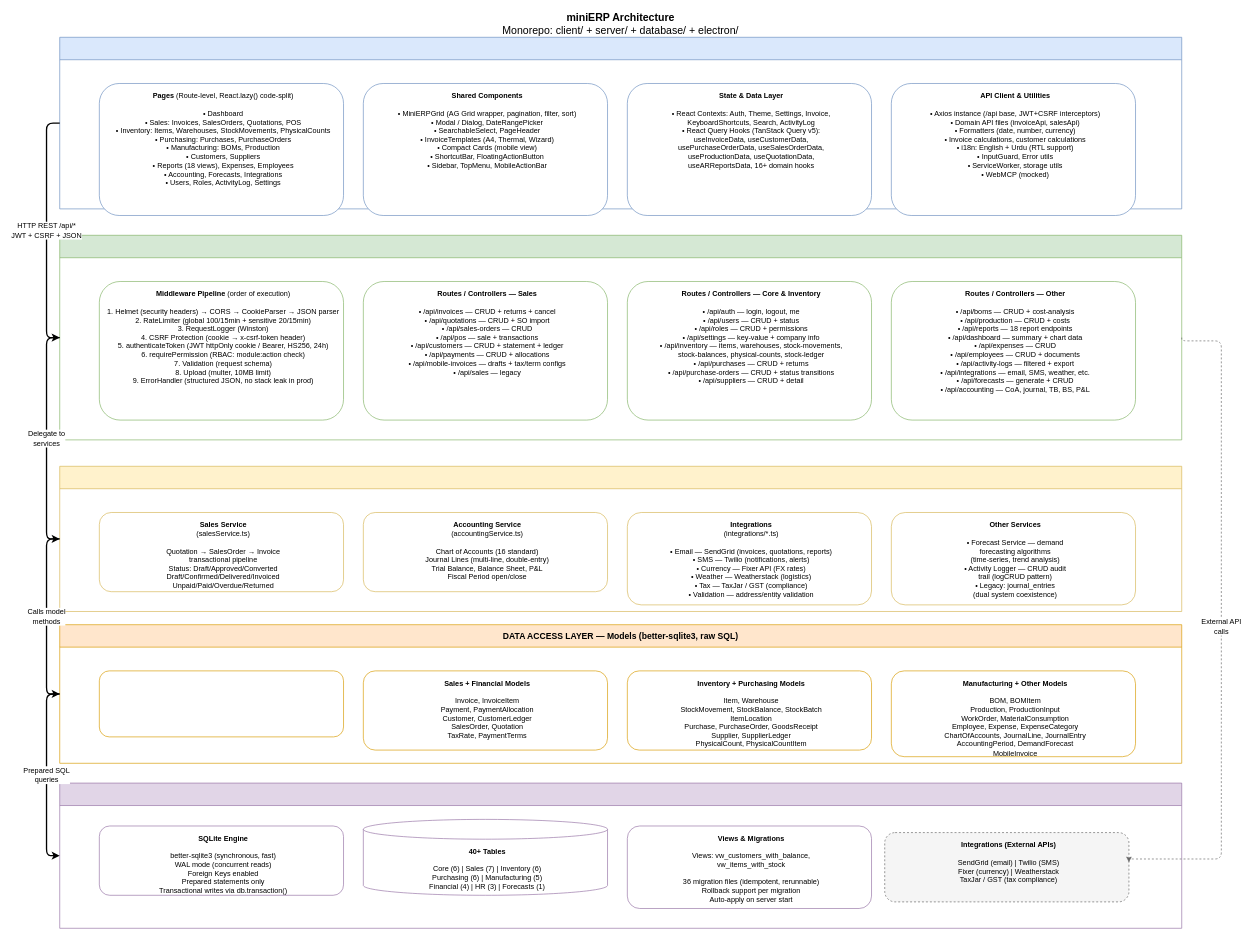
This 1253x940 diagram has some shape labels left out. The shapes that lost their labels are listed below. From the top down, each one's box as (x1, y1, x2, y2) in pixels, then its label:
(59, 37, 1182, 209): PRESENTATION LAYER — React 19 + TypeScript + Vite
(59, 235, 1182, 440): API LAYER — Express 5 + TypeScript (port 3011)
(59, 466, 1182, 611): SERVICE LAYER — Business Logic
(99, 670, 344, 737): Core Models User, Role, Permission Settings (key-value) ActivityLog
(59, 782, 1182, 928): DATABASE — SQLite (better-sqlite3)
